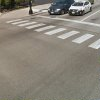crosswalk: (5, 18, 100, 48)
